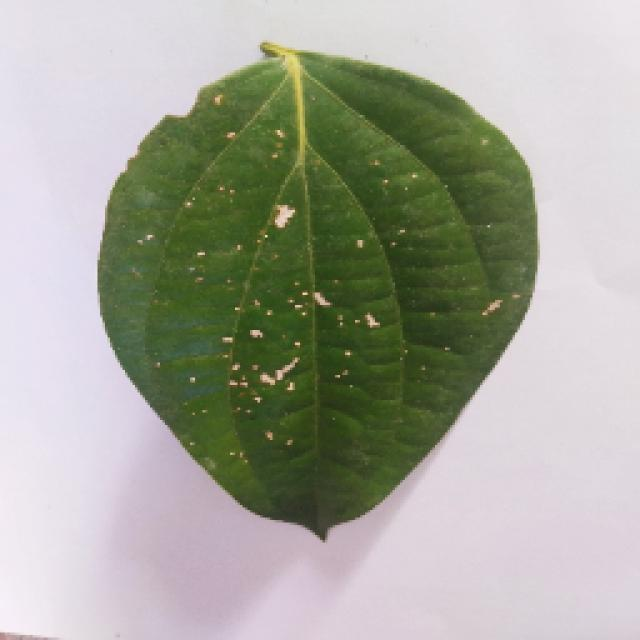pollu-disease: (95, 40, 537, 538)
